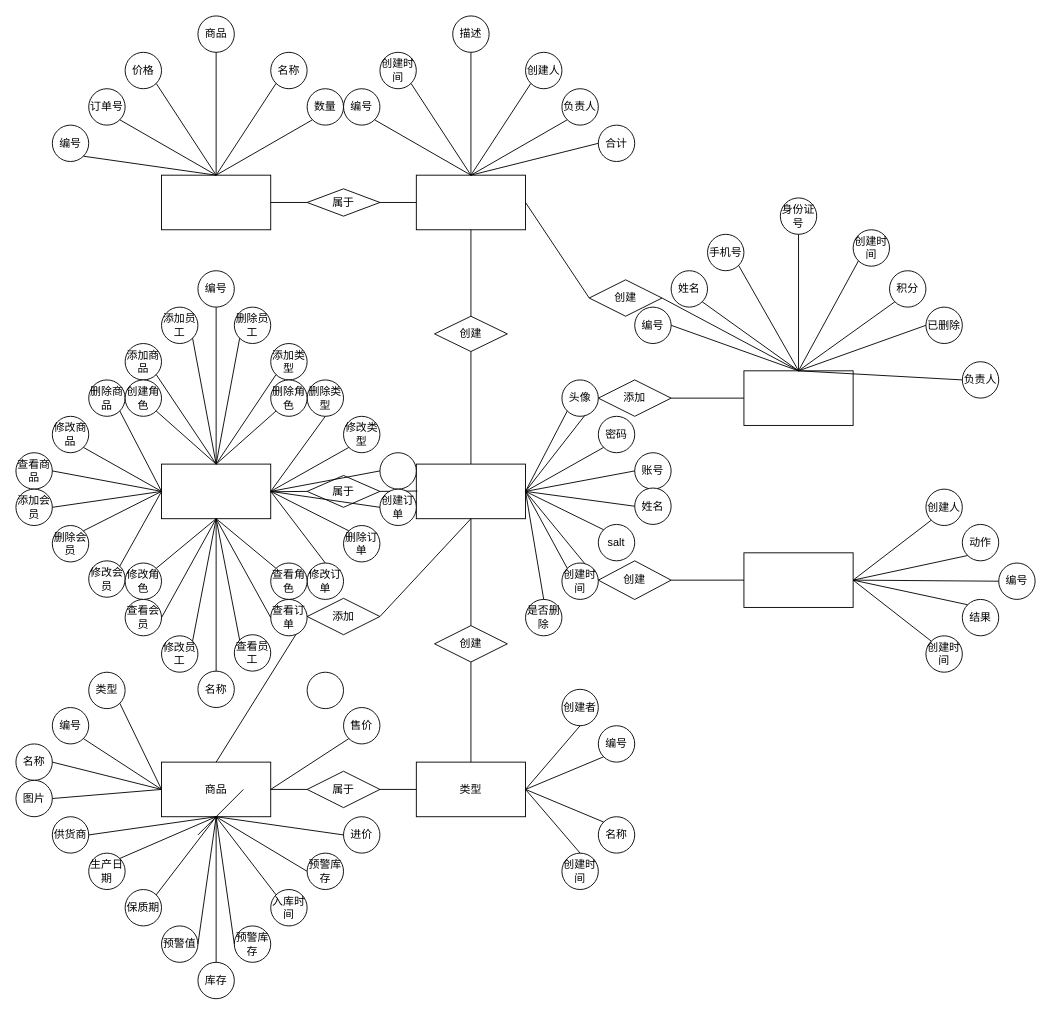
Image size: 1051x1015. Some labels were removed from this diagram. The centre of each missing label's shape, as x and y in pixels:
会员: the point at 798,397
商品码: the point at 325,690
日志: the point at 798,579
查看类型: the point at 397,470
用户: the point at 470,491
角色: the point at 216,491
订单: the point at 470,202
订单详情: the point at 216,202
